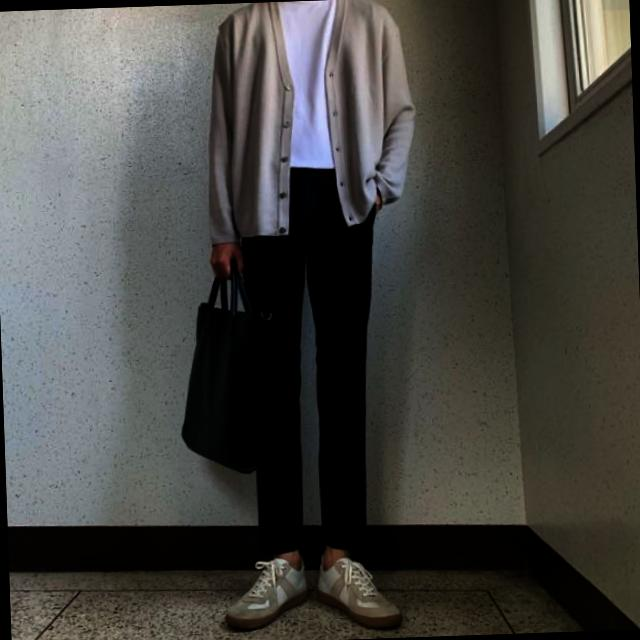cardigan: (199, 0, 418, 243)
slacks: (225, 156, 388, 563)
